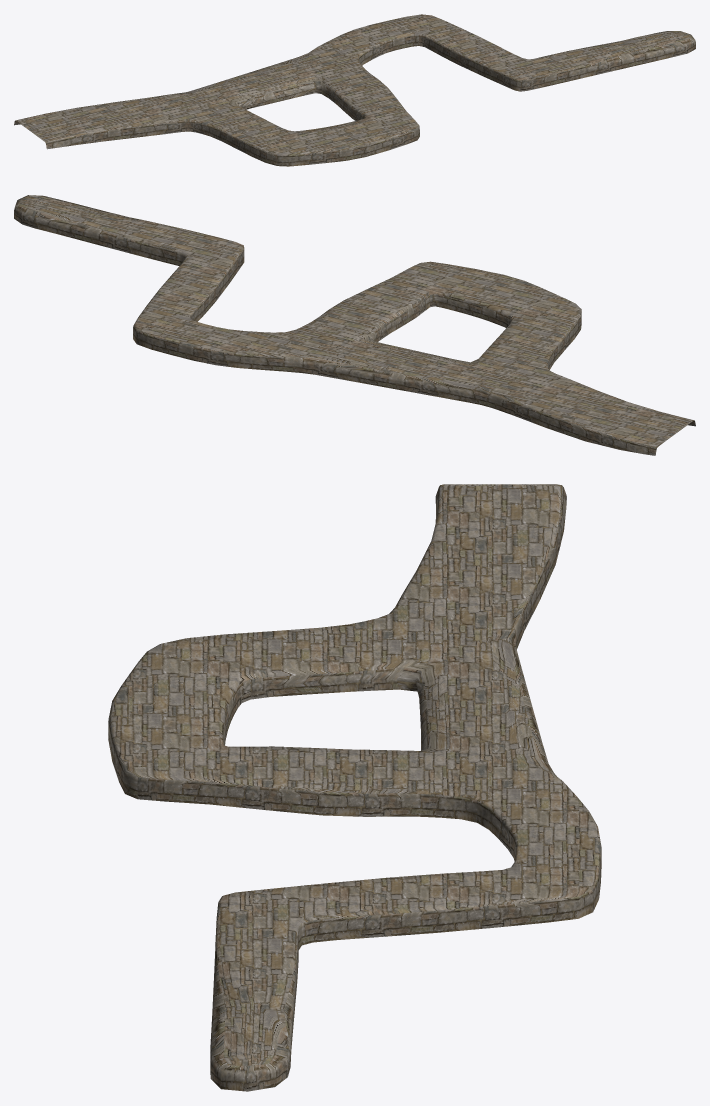
File: PATH_1.fbx
The picture shows the model from 3 angles, top to bottom: view 1: azimuth 30°, elevation 25°; view 2: azimuth 150°, elevation 25°; view 3: azimuth 270°, elevation 25°; orthographic projection. The views are drawn at different scales.
Parts seen in each view (by area): view 1: Ground.001; view 2: Ground.001; view 3: Ground.001.
Boxes of the visible parts, x1=… form: Ground.001: x1=14, y1=14, x2=695, y2=166; Ground.001: x1=14, y1=195, x2=695, y2=455; Ground.001: x1=108, y1=484, x2=601, y2=1091.
Size of the model in its own units: 4846 by 91.14 by 1731.
